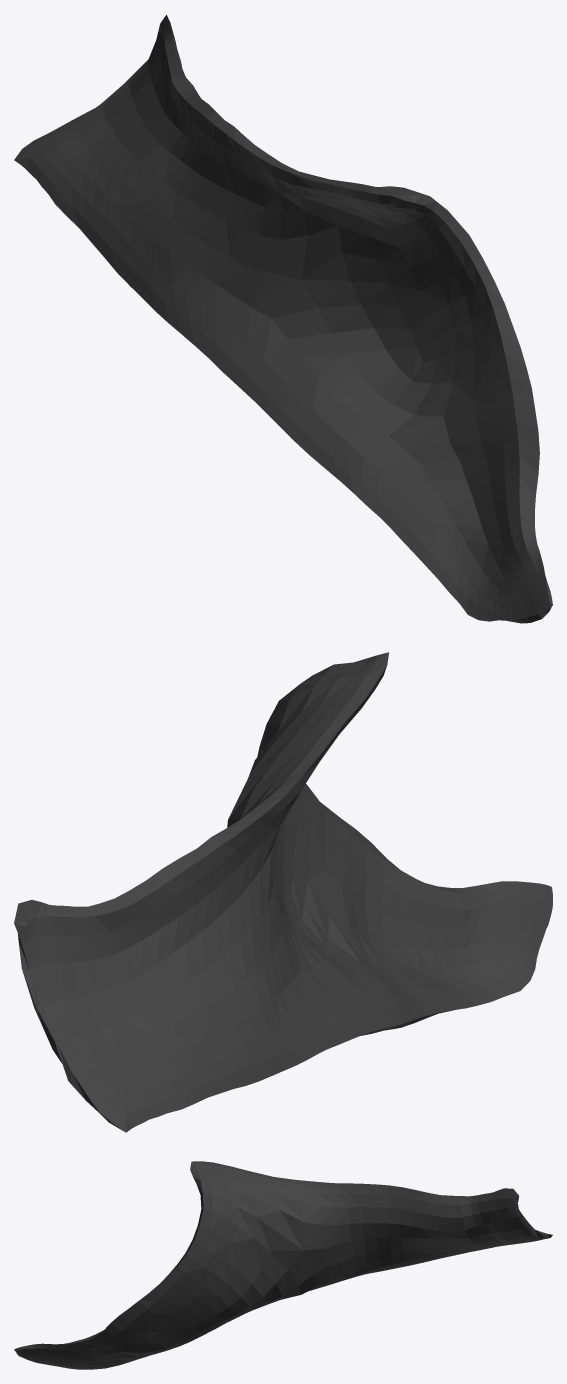
File: Transversus_abdominis.glb
3 views of the same model, one above another, from view 1: azimuth 30°, elevation 25°; view 2: azimuth 150°, elevation 25°; view 3: azimuth 270°, elevation 25° (orthographic). The views are drawn at different scales.
Parts seen in each view (by area): view 1: Transversus_abdominis; view 2: Transversus_abdominis; view 3: Transversus_abdominis.
Part boxes in pixels (x1,y1,x2,y2): Transversus_abdominis: (14, 15, 552, 623); Transversus_abdominis: (14, 652, 552, 1132); Transversus_abdominis: (14, 1161, 552, 1369).
Bounding box in the file's own units: 0.435 × 0.7784 × 1.81.
Materials: 1 (1 with a texture image).
